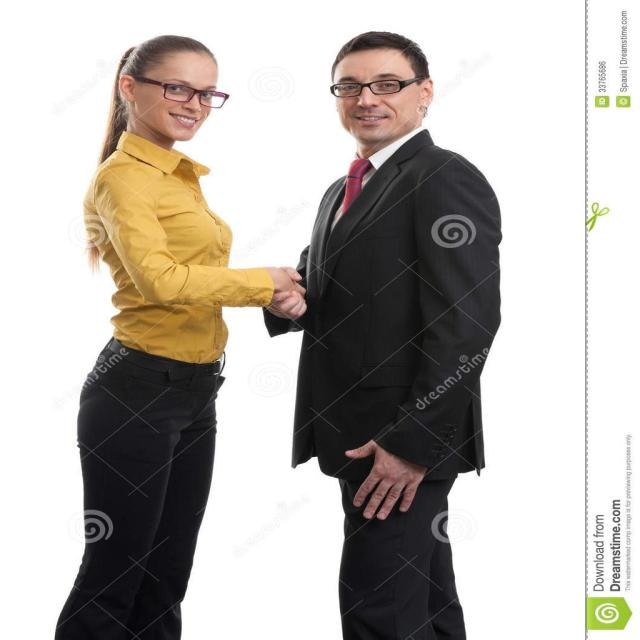Face: (331, 51, 435, 146), (148, 52, 225, 150)
